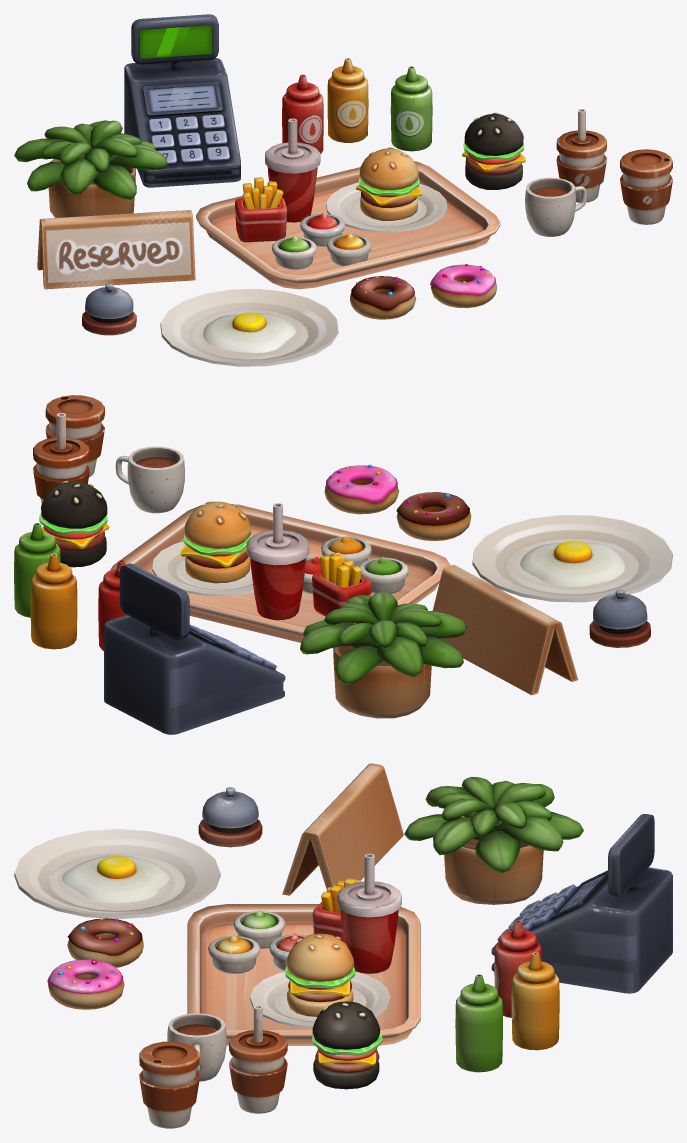
3 renders of one model, top to bottom at view 1: azimuth 30°, elevation 25°; view 2: azimuth 150°, elevation 25°; view 3: azimuth 270°, elevation 25°, orthographic. The views are drawn at different scales.
Visible parts, largest first — view 1: Terminal_, Food_tray, Reserved_table_sign, Plant, Plate_big, Sauce_pesto, Sauce_mustard, Egg, Plate_small, Cup, Donut_pink, Donut_brown (+17 smaller); view 2: Terminal_, Plant, Plate_big, Reserved_table_sign, Food_tray, Sauce_mustard, Egg, Cup, Donut_pink, Donut_brown, Cup.003, Burger_top (+17 smaller); view 3: Terminal_, Plant, Food_tray, Plate_big, Reserved_table_sign, Sauce_mustard, Sauce_pesto, Egg, Donut_pink, Plate_small, Donut_brown, Cup.002 (+17 smaller).
Part boxes in pixels (<box>): Terminal_: <box>124,14,240,187</box>; Food_tray: <box>196,161,500,289</box>; Reserved_table_sign: <box>37,210,195,289</box>; Plant: <box>14,120,167,217</box>; Plate_big: <box>160,289,338,366</box>; Sauce_pesto: <box>390,66,432,151</box>; Sauce_mustard: <box>327,58,368,142</box>; Egg: <box>203,312,296,352</box>; Plate_small: <box>326,182,447,232</box>; Cup: <box>525,177,586,236</box>; Donut_pink: <box>430,264,496,308</box>; Donut_brown: <box>350,276,416,319</box>; Terminal_: <box>104,563,285,734</box>; Plant: <box>300,592,466,718</box>; Plate_big: <box>472,515,672,602</box>; Reserved_table_sign: <box>432,564,578,695</box>; Food_tray: <box>110,504,450,648</box>; Sauce_mustard: <box>30,553,77,649</box>; Egg: <box>520,541,624,586</box>; Cup: <box>115,446,184,513</box>; Donut_pink: <box>324,464,399,514</box>; Donut_brown: <box>396,492,471,540</box>; Cup.003: <box>250,558,306,620</box>; Burger_top: <box>184,501,250,548</box>; Terminal_: <box>491,814,672,993</box>; Plant: <box>404,777,583,904</box>; Food_tray: <box>187,904,420,1045</box>; Plate_big: <box>14,829,220,919</box>; Reserved_table_sign: <box>282,763,403,895</box>; Sauce_mustard: <box>511,952,559,1050</box>; Sauce_pesto: <box>455,974,502,1072</box>; Egg: <box>62,855,169,903</box>; Donut_pink: <box>47,959,124,1009</box>; Plate_small: <box>250,972,390,1028</box>; Donut_brown: <box>67,918,143,967</box>; Cup.002: <box>139,1068,199,1128</box>.
Size of the model in its own units: 3.49 by 0.7162 by 3.1.
Materials: 5 (5 with a texture image).
